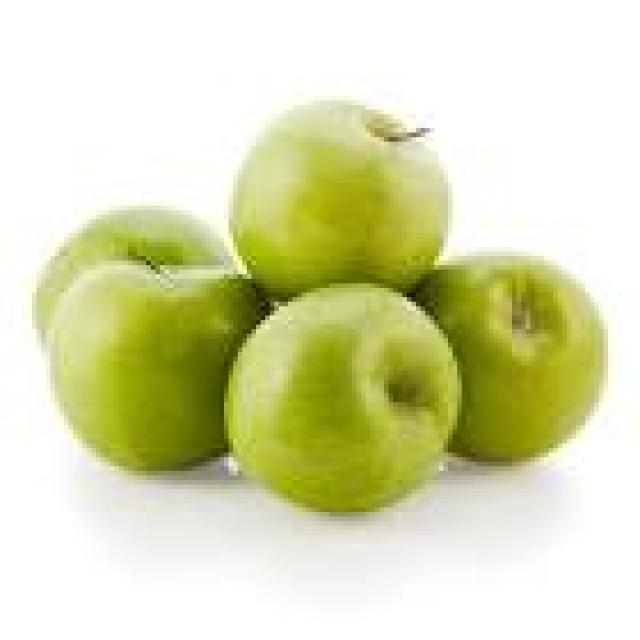apple: (224, 284, 461, 511), (46, 256, 269, 470), (229, 101, 447, 297), (416, 256, 607, 461), (37, 206, 228, 338)
